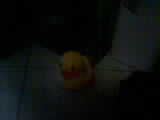duck: (49, 51, 87, 102)
